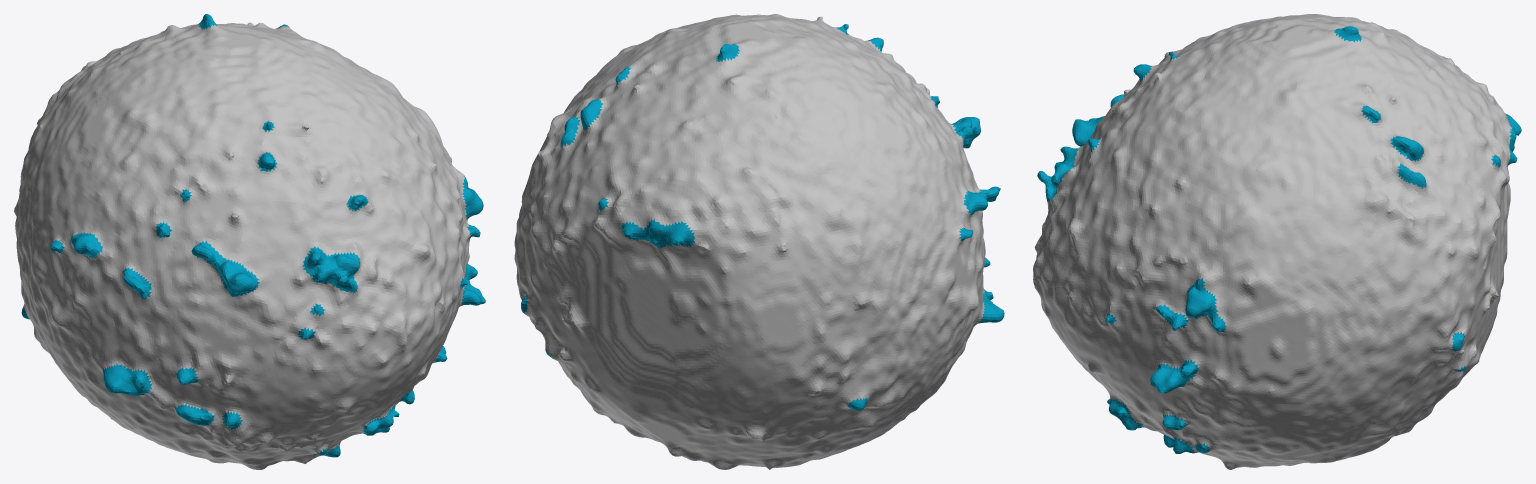
3 renders of one model, left to right at view 1: azimuth 30°, elevation 25°; view 2: azimuth 150°, elevation 25°; view 3: azimuth 270°, elevation 25°, orthographic. The views are drawn at different scales.
Size of the model in its own units: 127 by 124 by 132.
